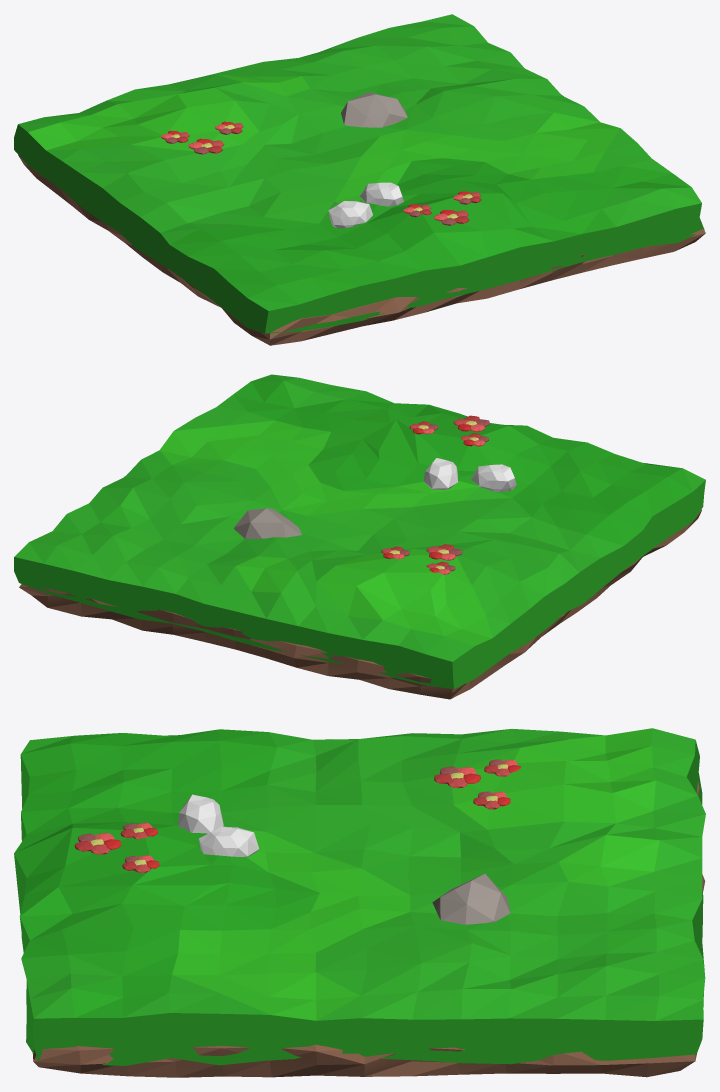
3 renders of one model, top to bottom at view 1: azimuth 30°, elevation 25°; view 2: azimuth 150°, elevation 25°; view 3: azimuth 270°, elevation 25°, orthographic. The views are drawn at different scales.
Parts seen in each view (by area): view 1: grass.004, ground.004, Icosphere.016, stone.016, stone.015; view 2: grass.004, ground.004, Icosphere.016, stone.016, stone.015; view 3: grass.004, ground.004, Icosphere.016, stone.015, stone.016.
Boxes of the visible parts, x1=… form: grass.004: x1=14, y1=14, x2=704, y2=333; ground.004: x1=18, y1=155, x2=705, y2=345; Icosphere.016: x1=341, y1=92, x2=407, y2=127; stone.016: x1=328, y1=201, x2=372, y2=228; stone.015: x1=359, y1=182, x2=403, y2=206; grass.004: x1=14, y1=374, x2=705, y2=688; ground.004: x1=19, y1=509, x2=701, y2=699; Icosphere.016: x1=234, y1=508, x2=301, y2=538; stone.016: x1=471, y1=464, x2=516, y2=491; stone.015: x1=423, y1=458, x2=457, y2=489; grass.004: x1=14, y1=728, x2=705, y2=1065; ground.004: x1=32, y1=782, x2=705, y2=1077; Icosphere.016: x1=432, y1=873, x2=510, y2=924; stone.015: x1=199, y1=826, x2=258, y2=856; stone.016: x1=178, y1=794, x2=223, y2=833.
Size of the model in its own units: 1023 by 154 by 1024.
